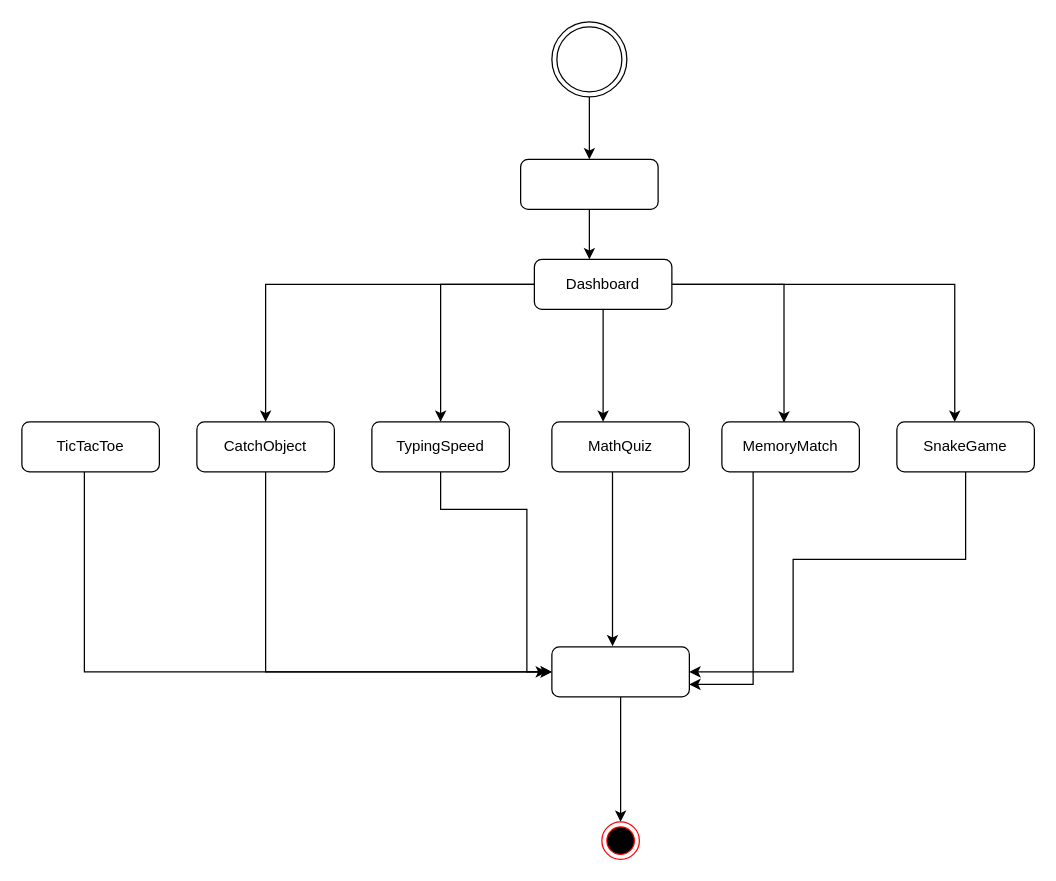
Image size: 1056x881. Some labels were removed from this diagram. The centre of each missing label's shape, as x and y in pixels:
Login: pixel 588 183
Logout: pixel 620 671
